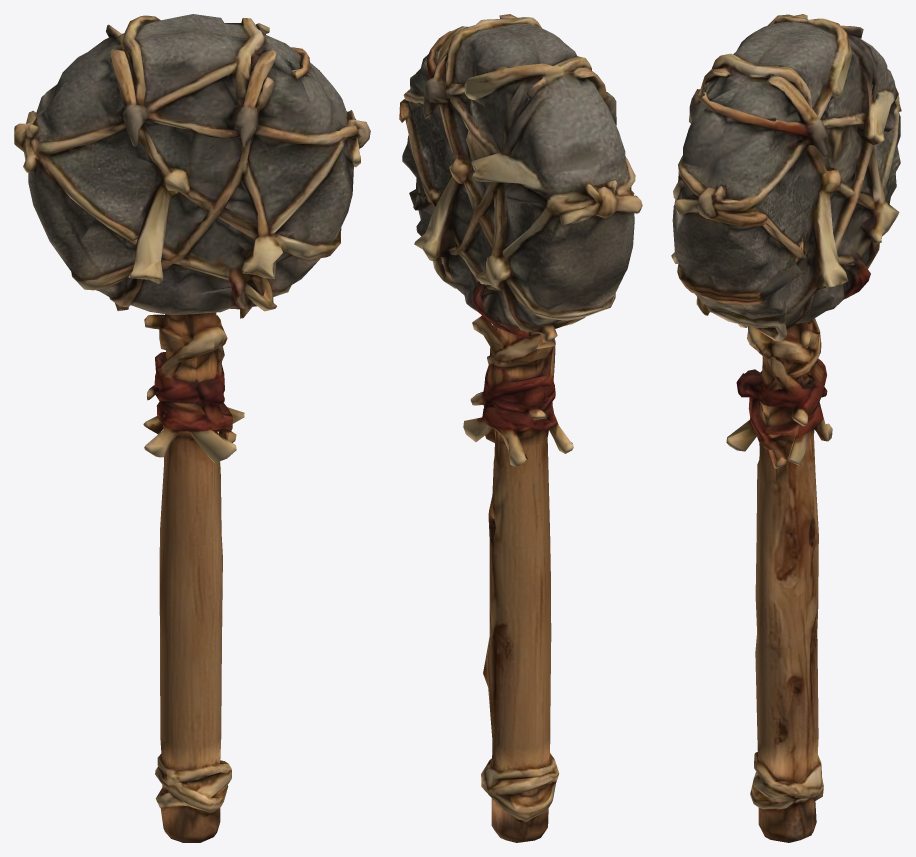
The model's file is maza_piedra.glb.
The picture shows the model from 3 angles, left to right: view 1: azimuth 30°, elevation 25°; view 2: azimuth 150°, elevation 25°; view 3: azimuth 270°, elevation 25°; orthographic projection.
Parts seen in each view (by area): view 1: tripo_node_c2208901-ae64-4193-960c-f854c963cddb; view 2: tripo_node_c2208901-ae64-4193-960c-f854c963cddb; view 3: tripo_node_c2208901-ae64-4193-960c-f854c963cddb.
Part boxes in pixels (left/top/right/bottom): tripo_node_c2208901-ae64-4193-960c-f854c963cddb: left=14, top=14, right=370, bottom=842; tripo_node_c2208901-ae64-4193-960c-f854c963cddb: left=399, top=14, right=642, bottom=842; tripo_node_c2208901-ae64-4193-960c-f854c963cddb: left=671, top=14, right=901, bottom=842.
Size of the model in its own units: 0.3719 by 0.9997 by 0.2607.
1 material, 1 textured.
